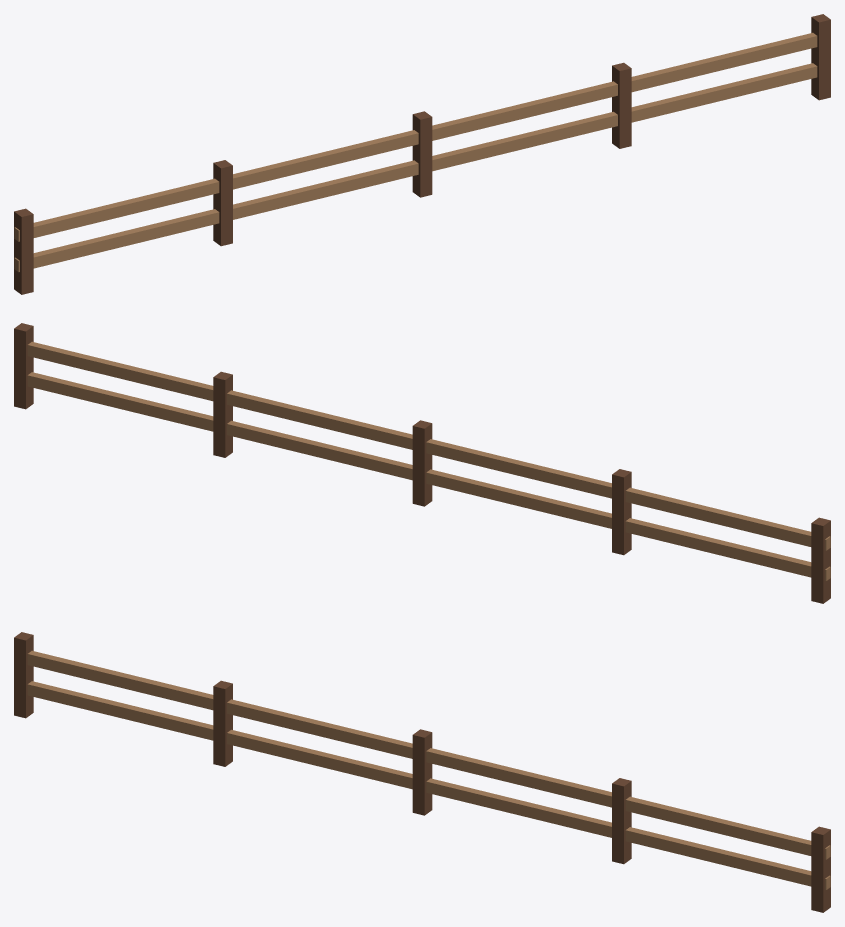
Rendered from sand-fence.glb.
The picture shows the model from 3 angles, top to bottom: view 1: azimuth 30°, elevation 25°; view 2: azimuth 150°, elevation 25°; view 3: azimuth 330°, elevation 25°; orthographic projection.
Visible parts, largest first — view 1: sand-fence; view 2: sand-fence; view 3: sand-fence.
Boxes of the visible parts, x1,y1,x2,y2 form: sand-fence: [14, 14, 830, 294]; sand-fence: [14, 323, 830, 603]; sand-fence: [14, 632, 830, 912].
Size of the model in its own units: 12.22 by 1.12 by 0.2.
